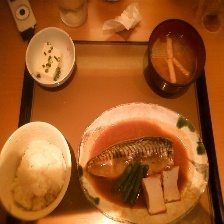rice: (8, 138, 68, 210)
